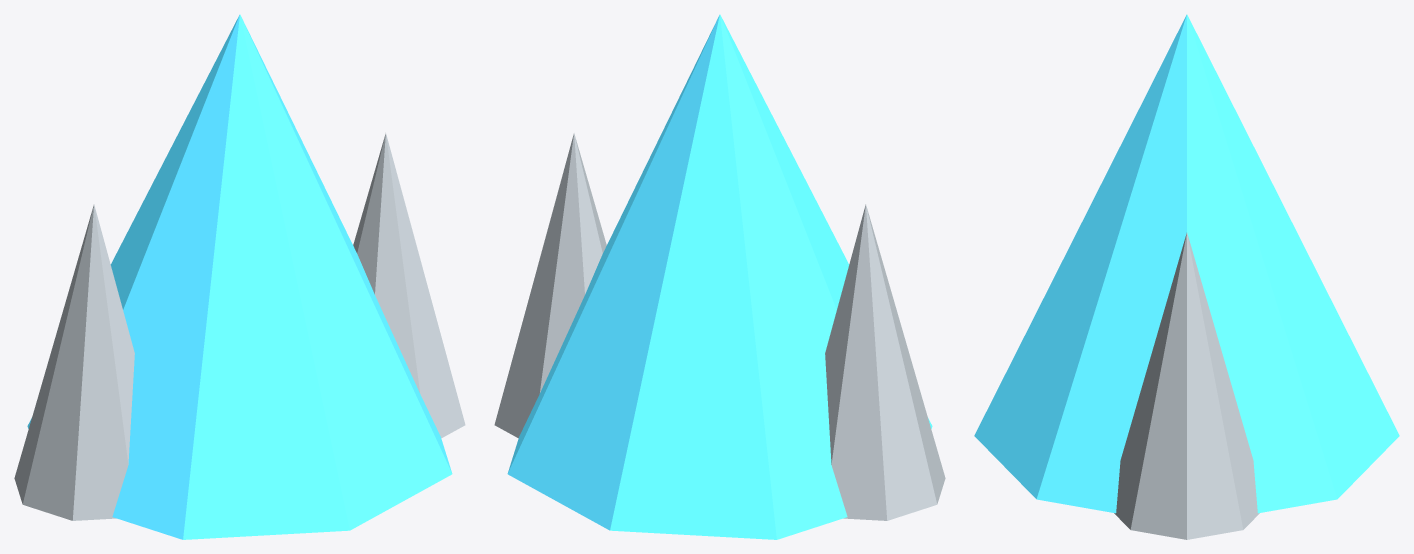
File: shot_crystalshot.glb
3 views of the same model, side by side, from view 1: azimuth 30°, elevation 25°; view 2: azimuth 150°, elevation 25°; view 3: azimuth 270°, elevation 25° (orthographic). The views are drawn at different scales.
Parts seen in each view (by area): view 1: shot_crystalshot_Ice.003, shot_crystalshot_Snow.003; view 2: shot_crystalshot_Ice.003, shot_crystalshot_Snow.003; view 3: shot_crystalshot_Ice.003, shot_crystalshot_Snow.003.
Boxes of the visible parts, x1=… form: shot_crystalshot_Ice.003: x1=27, y1=14, x2=452, y2=539; shot_crystalshot_Snow.003: x1=14, y1=133, x2=465, y2=520; shot_crystalshot_Ice.003: x1=507, y1=14, x2=932, y2=539; shot_crystalshot_Snow.003: x1=494, y1=133, x2=945, y2=520; shot_crystalshot_Ice.003: x1=974, y1=14, x2=1399, y2=513; shot_crystalshot_Snow.003: x1=1114, y1=233, x2=1259, y2=539.
Size of the model in its own units: 1.46 by 1.66 by 1.28.
